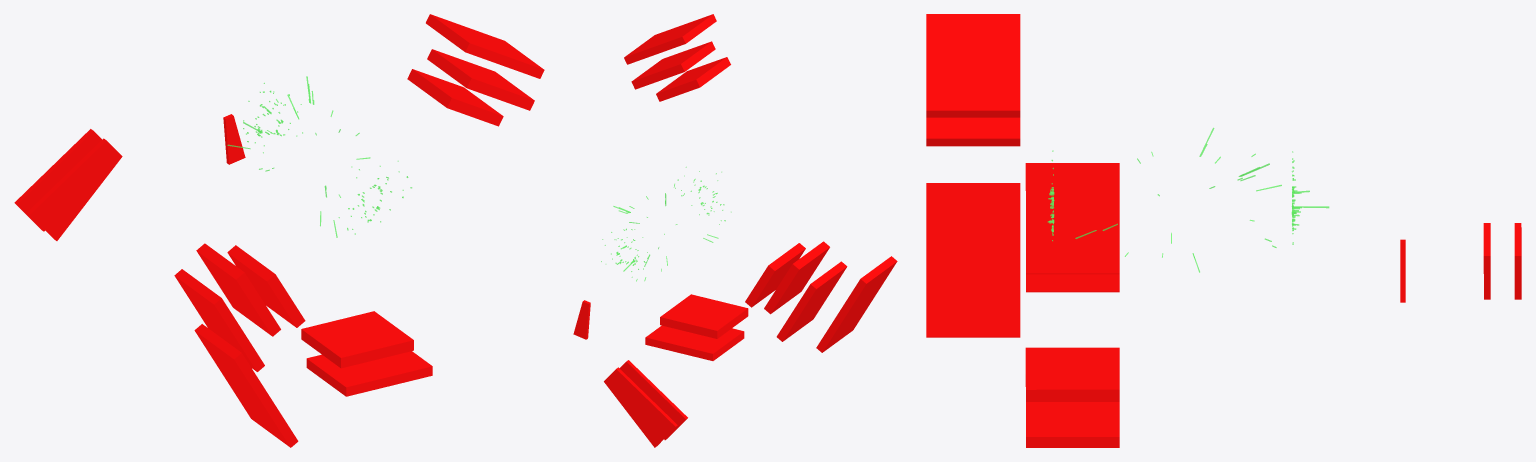
3 renders of one model, left to right at view 1: azimuth 30°, elevation 25°; view 2: azimuth 150°, elevation 25°; view 3: azimuth 270°, elevation 25°, orthographic. The views are drawn at different scales.
Visible parts, largest first — view 1: MuonChambers_V1, EERecHits_V2; view 2: MuonChambers_V1, EERecHits_V2; view 3: MuonChambers_V1.
Boxes of the visible parts, <box> form: MuonChambers_V1: <box>14,14,544,447</box>; EERecHits_V2: <box>243,82,412,234</box>; MuonChambers_V1: <box>573,14,897,447</box>; EERecHits_V2: <box>601,166,731,277</box>; MuonChambers_V1: <box>926,14,1521,447</box>.
Size of what is drawn, in the model's own units: 11.34 by 12.72 by 15.92.
